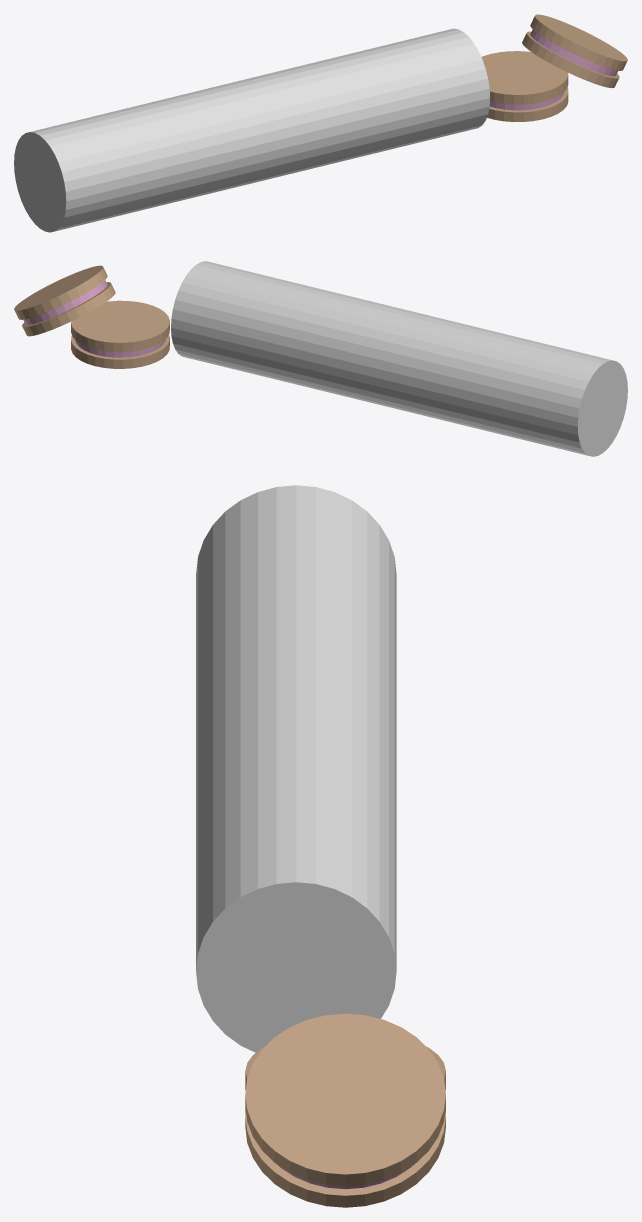
File: Bolacha.fbx
3 views of the same model, one above another, from view 1: azimuth 30°, elevation 25°; view 2: azimuth 150°, elevation 25°; view 3: azimuth 270°, elevation 25° (orthographic). The views are drawn at different scales.
Parts seen in each view (by area): view 1: Cylinder, Cylinder.003, Cylinder.001; view 2: Cylinder, Cylinder.003, Cylinder.001; view 3: Cylinder, Cylinder.001.
Part boxes in pixels (x1,y1,x2,y2): Cylinder: (14, 28, 489, 232); Cylinder.003: (481, 51, 568, 121); Cylinder.001: (522, 14, 627, 88); Cylinder: (171, 261, 627, 456); Cylinder.003: (71, 300, 169, 368); Cylinder.001: (14, 265, 115, 336); Cylinder: (196, 485, 396, 1052); Cylinder.001: (245, 1013, 445, 1207).
Size of the model in its own units: 280 by 42.14 by 53.22.
